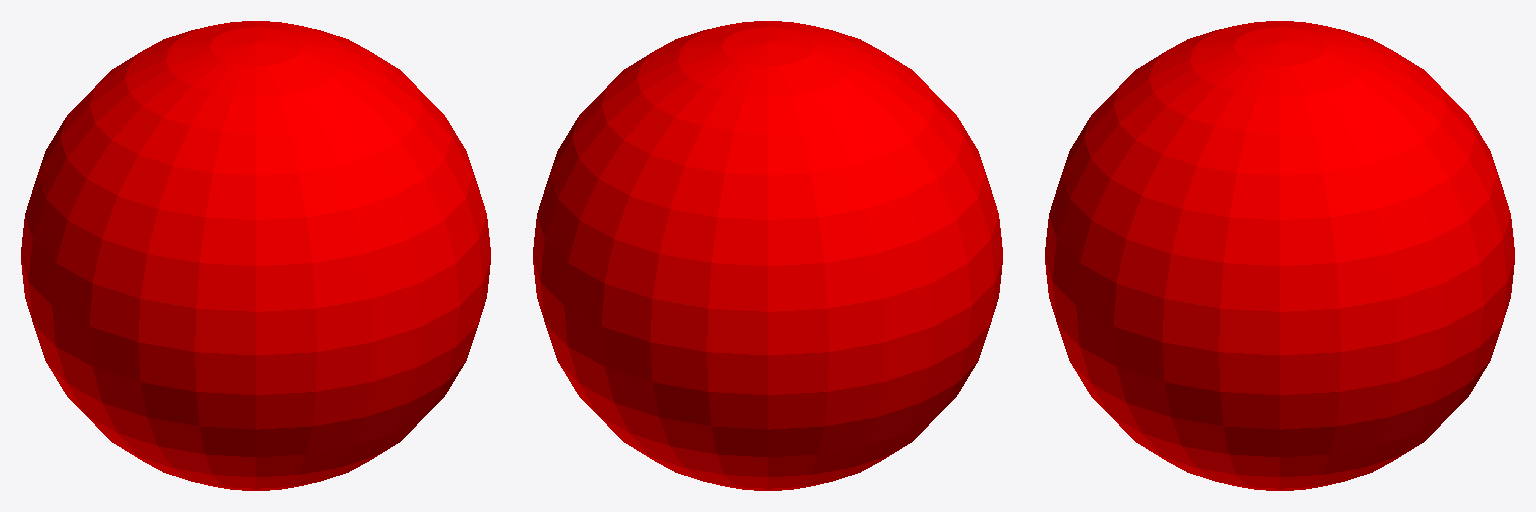
File: verme.obj
3 renders of one model, left to right at view 1: azimuth 30°, elevation 25°; view 2: azimuth 150°, elevation 25°; view 3: azimuth 270°, elevation 25°, orthographic.
Visible parts, largest first — view 1: sphere01; view 2: sphere01; view 3: sphere01.
Boxes of the visible parts, box(x1,y1,x2,y2) form: sphere01: box(21, 21, 490, 490); sphere01: box(533, 21, 1002, 490); sphere01: box(1045, 21, 1514, 490).
Bounding box in the file's own units: 24.52 × 24.52 × 24.52.